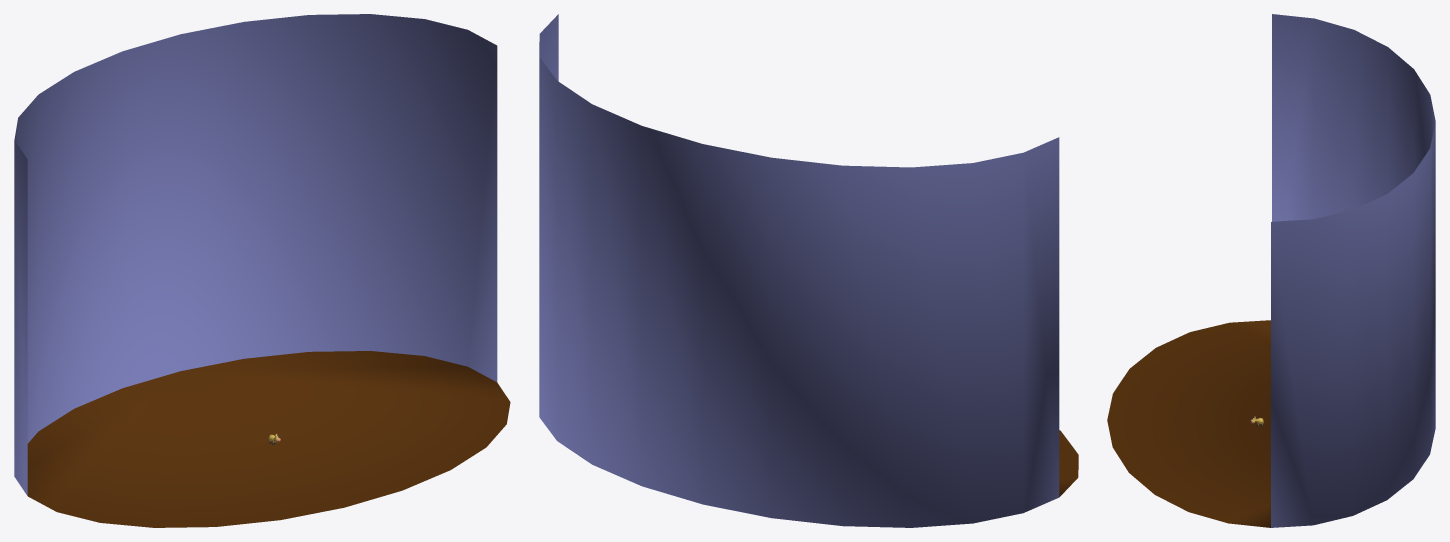
The model's file is Cow.fbx.
3 renders of one model, left to right at view 1: azimuth 30°, elevation 25°; view 2: azimuth 150°, elevation 25°; view 3: azimuth 270°, elevation 25°, orthographic. The views are drawn at different scales.
Visible parts, largest first — view 1: Group1; view 2: Group1; view 3: Group1.
Part boxes in pixels (x1=…): Group1: x1=14, y1=14, x2=510, y2=527; Group1: x1=539, y1=14, x2=1078, y2=527; Group1: x1=1107, y1=14, x2=1435, y2=527.
Size of the model in its own units: 18940 by 13004 by 12652.
